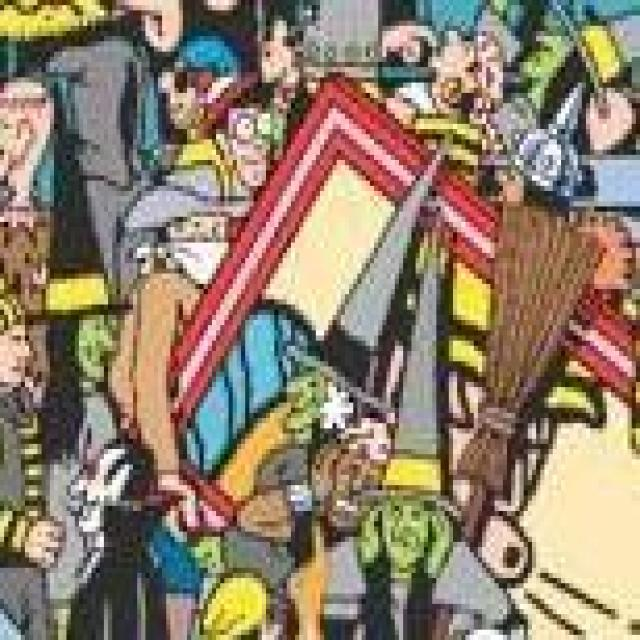waldo: (187, 67, 270, 191)
